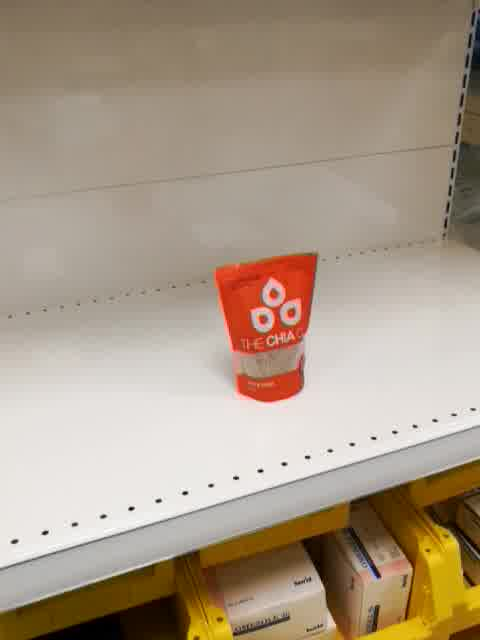whitechia: (214, 251, 318, 404)
